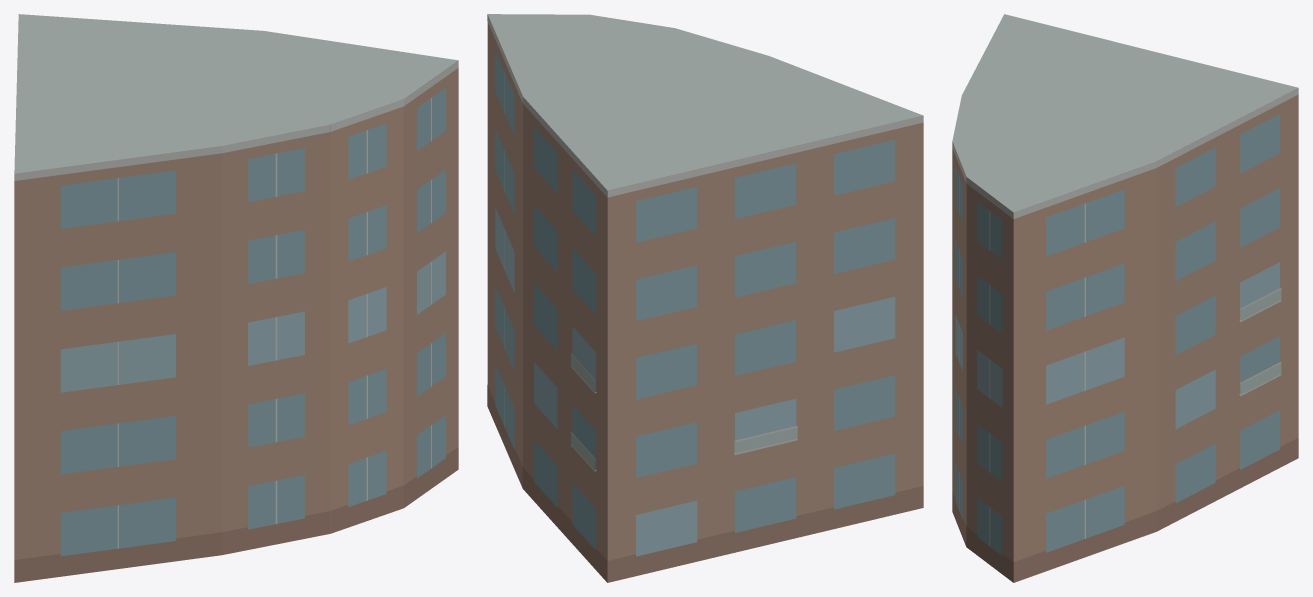
File: survey-upis-32487669.glb
3 views of the same model, side by side, from view 1: azimuth 30°, elevation 25°; view 2: azimuth 150°, elevation 25°; view 3: azimuth 270°, elevation 25° (orthographic). The views are drawn at different scales.
Parts seen in each view (by area): view 1: survey-upis-32487669.tmp; view 2: survey-upis-32487669.tmp; view 3: survey-upis-32487669.tmp.
Part boxes in pixels (box(x1,y1,x2,y2)): survey-upis-32487669.tmp: box(14, 14, 458, 582); survey-upis-32487669.tmp: box(487, 14, 923, 582); survey-upis-32487669.tmp: box(952, 14, 1298, 582).
Size of the model in its own units: 15.76 by 13.7 by 11.62.
